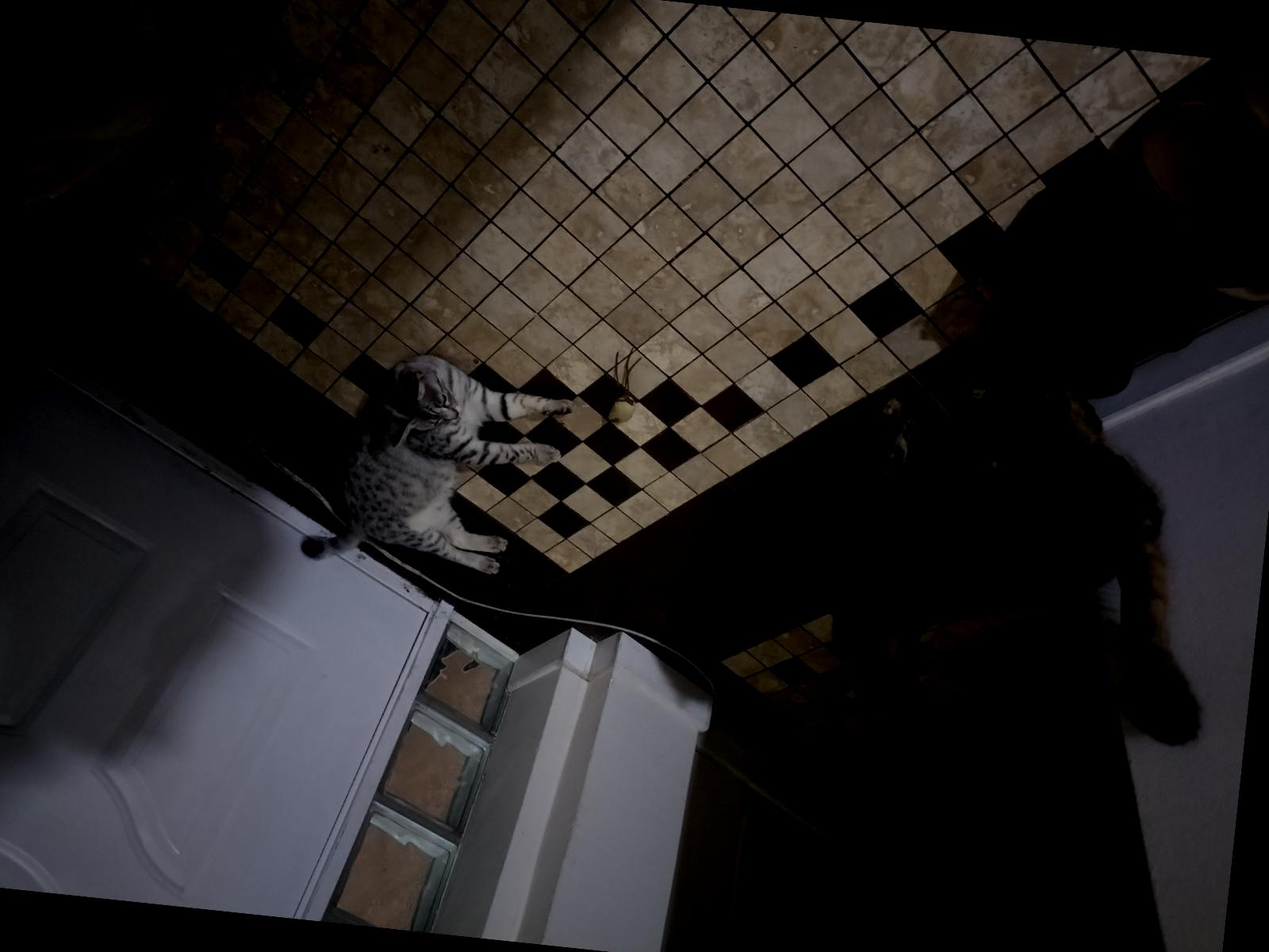macka: (819, 355, 1237, 757), (295, 339, 582, 600)
